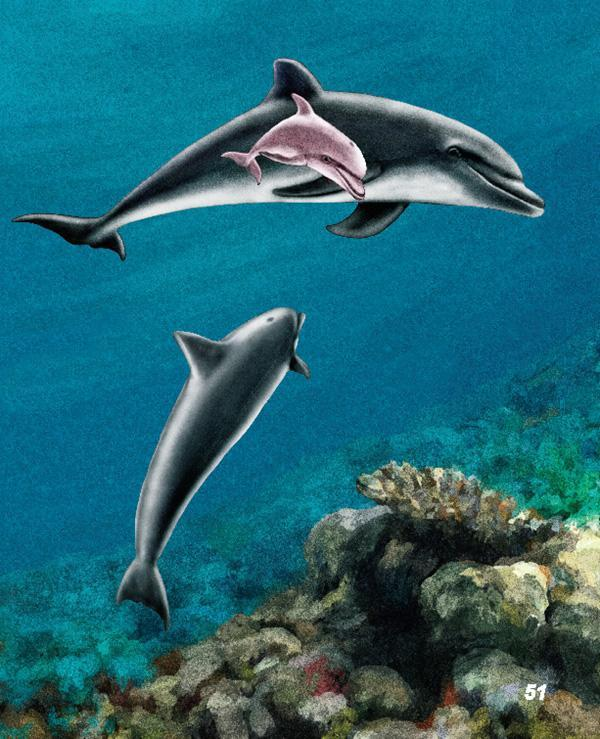fish: (10, 58, 551, 258), (102, 307, 318, 632)
